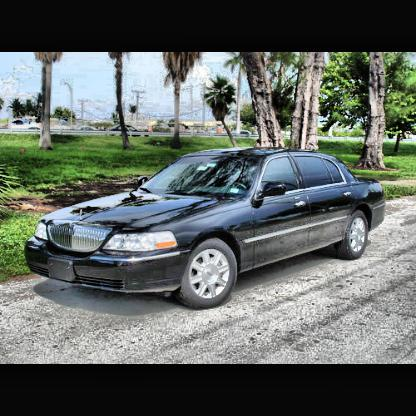Lincoln Town Car Sedan 2011: (26, 149, 387, 311)
